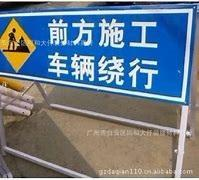sign: (1, 13, 187, 99)
